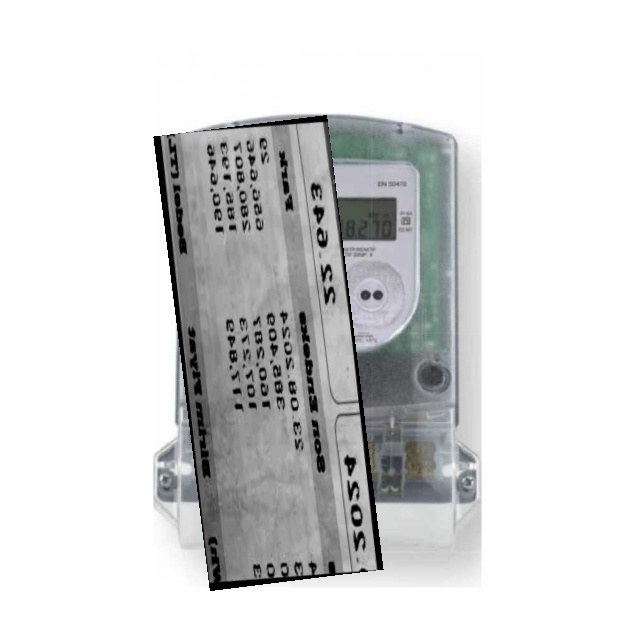electricity-bill: (152, 114, 384, 590)
